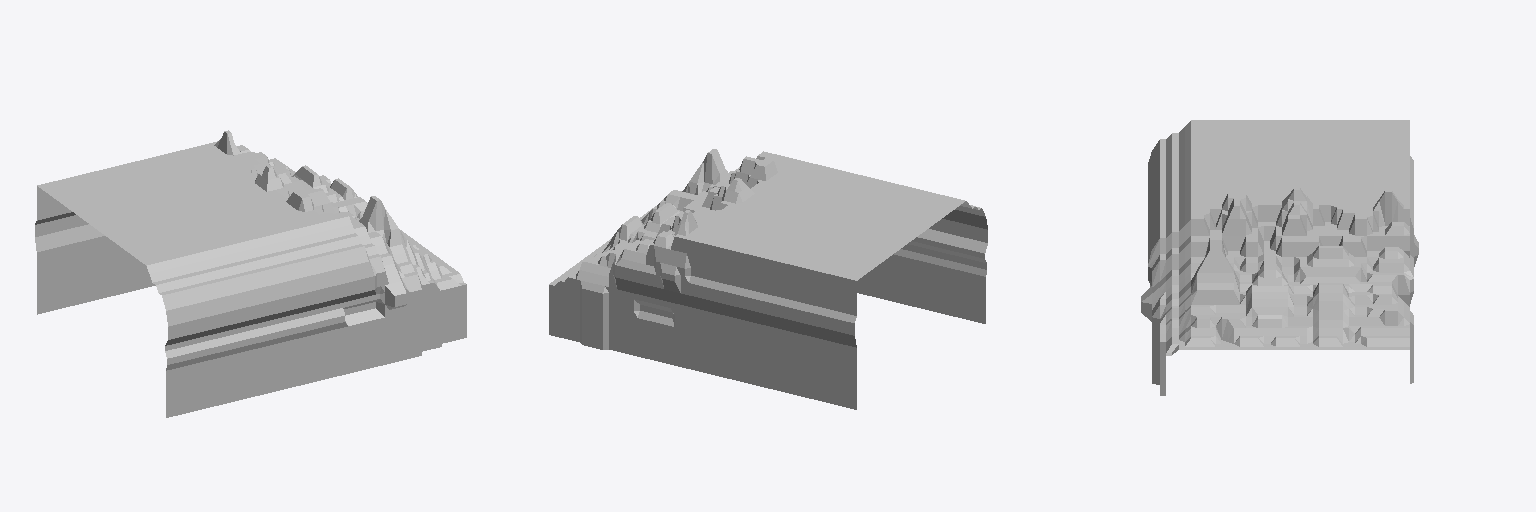
The model's file is mMountainRight3.obj.
3 views of the same model, side by side, from view 1: azimuth 30°, elevation 25°; view 2: azimuth 150°, elevation 25°; view 3: azimuth 270°, elevation 25° (orthographic).
Visible parts, largest first — view 1: mMountainRight4; view 2: mMountainRight4; view 3: mMountainRight4.
Boxes of the visible parts, x1,y1,x2,y2 form: mMountainRight4: [35, 130, 466, 417]; mMountainRight4: [549, 149, 987, 409]; mMountainRight4: [1141, 120, 1418, 395].
Bounding box in the file's own units: 73.76 × 35.59 × 57.46.